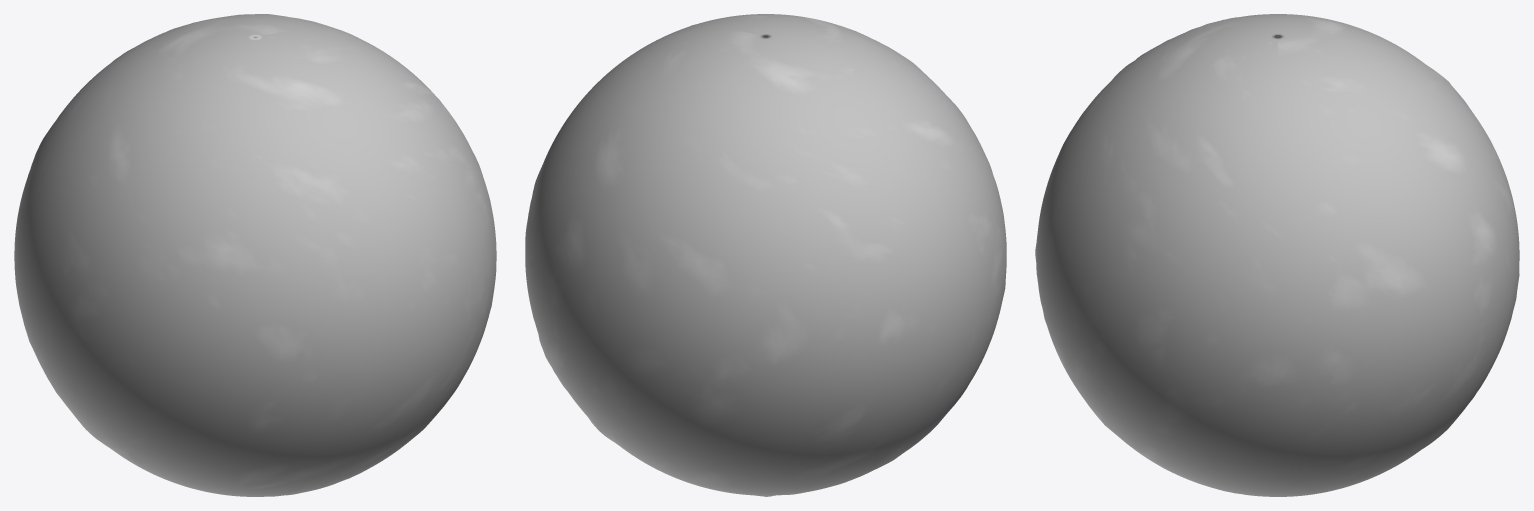
3 views of the same model, side by side, from view 1: azimuth 30°, elevation 25°; view 2: azimuth 150°, elevation 25°; view 3: azimuth 270°, elevation 25° (orthographic).
Parts seen in each view (by area): view 1: clouds; view 2: clouds; view 3: clouds.
Boxes of the visible parts, <box> form: clouds: <box>14,14,496,496</box>; clouds: <box>525,14,1006,496</box>; clouds: <box>1035,14,1519,496</box>.
Bounding box in the file's own units: 0.7424 × 0.7438 × 0.7432.
